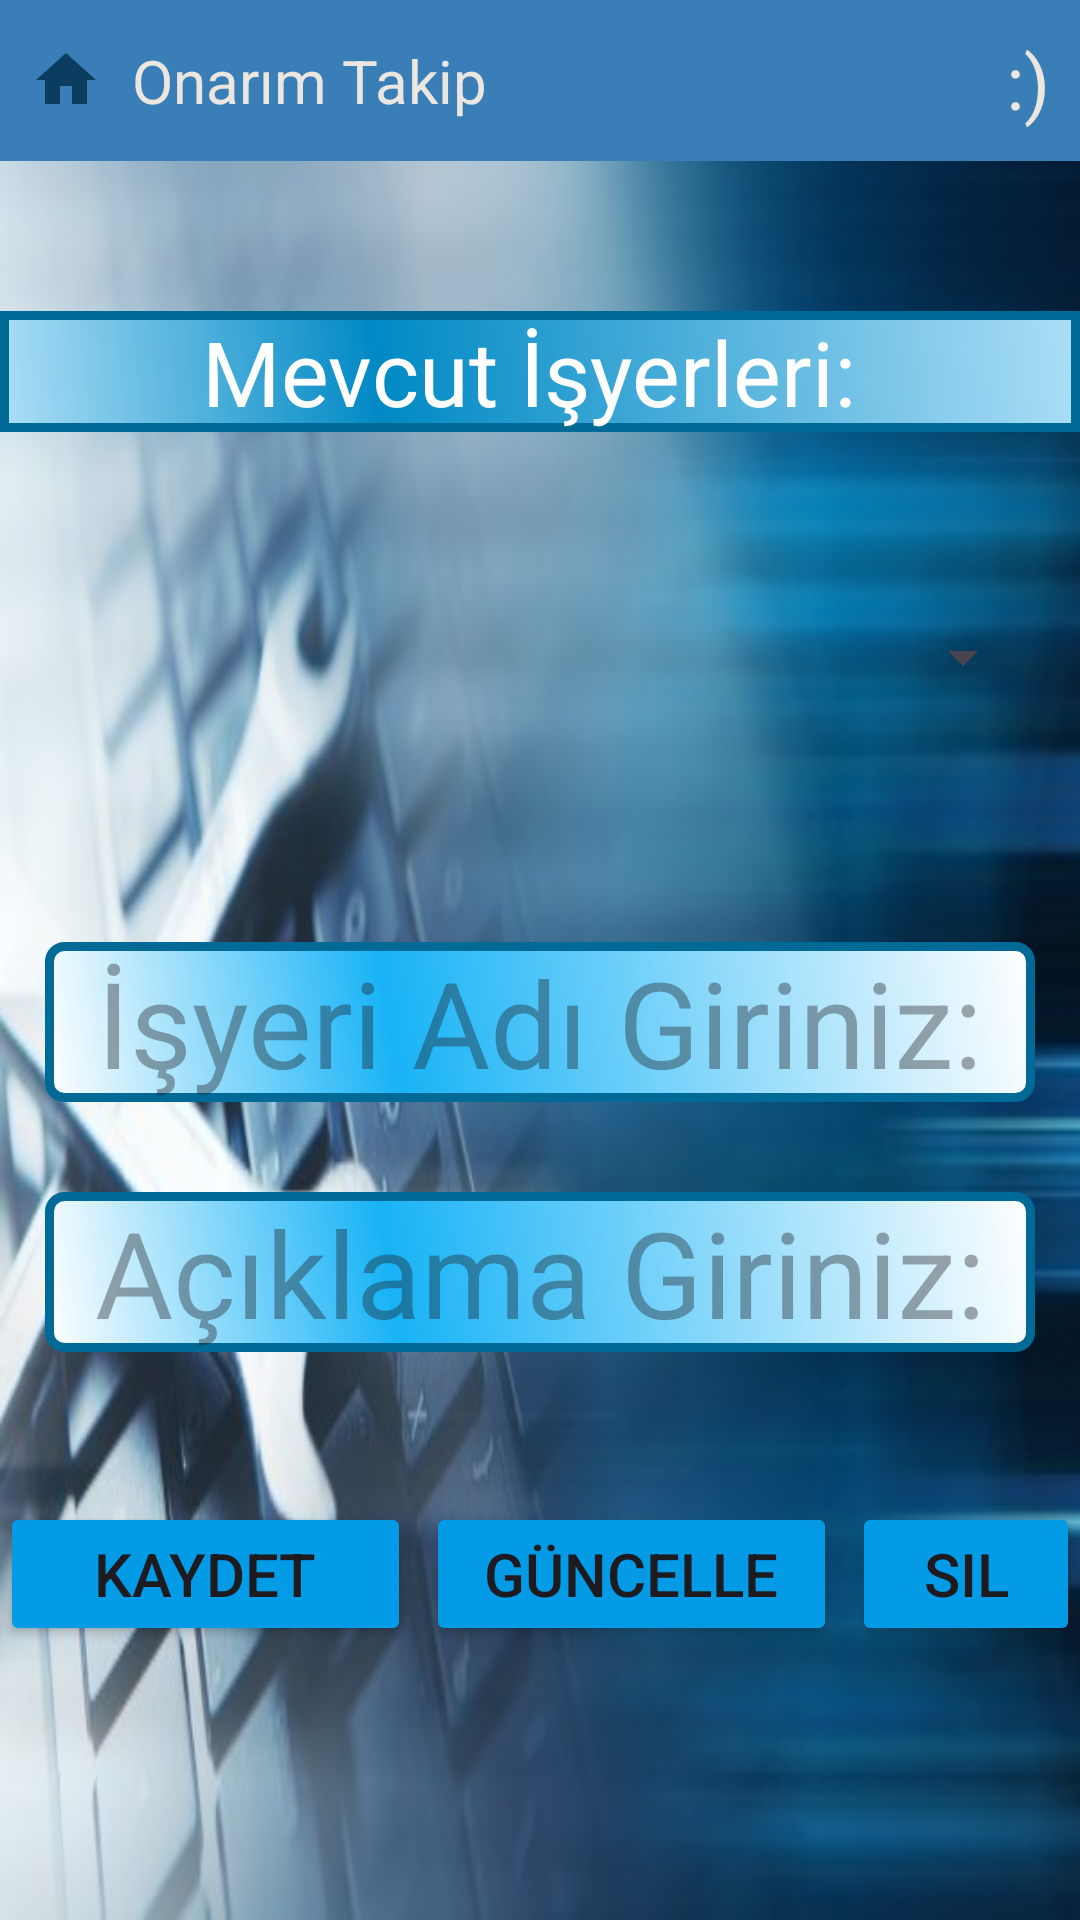

Point at icon controls on the screen. Image size 1080×1920, points as (x=x, y=y).
home: (x=66, y=78)
